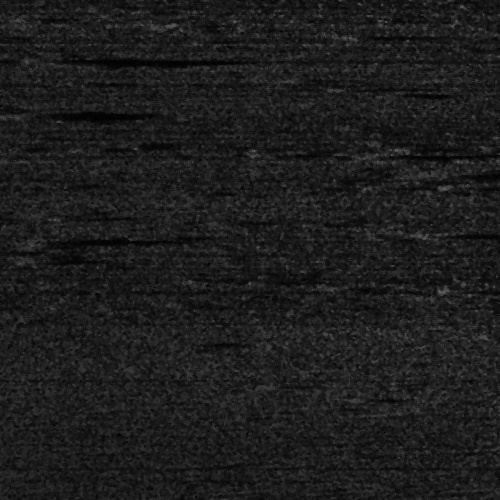object: (334, 149, 417, 158), (400, 168, 493, 175), (442, 179, 500, 188), (393, 227, 456, 234), (19, 53, 82, 60), (3, 238, 66, 245), (0, 109, 49, 116), (338, 32, 391, 37), (323, 85, 364, 90), (403, 285, 414, 290)
shadow: (50, 53, 234, 60), (18, 109, 149, 116), (376, 149, 477, 158), (34, 238, 110, 245), (425, 227, 500, 234), (409, 285, 500, 290), (365, 32, 445, 37), (446, 168, 500, 175), (344, 85, 394, 90), (474, 179, 500, 188)
